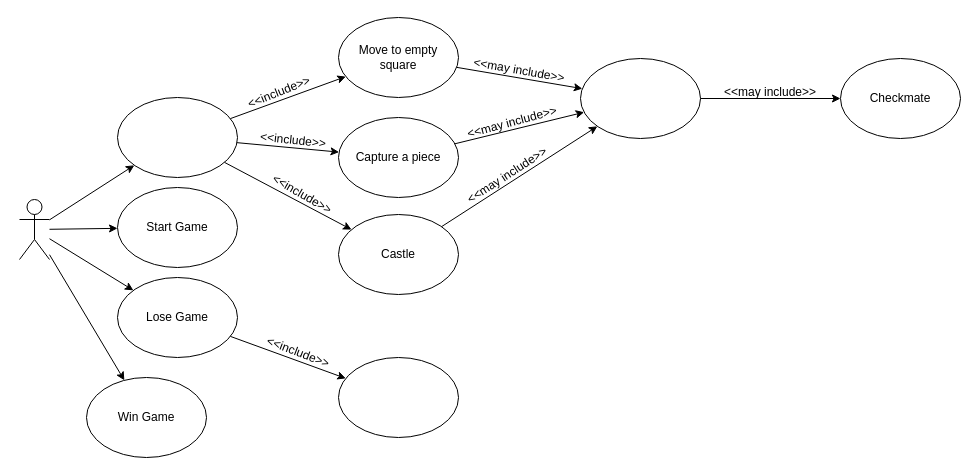
This 978x475 diagram has some shape labels left out. Here are the shapes that lost their labels. From the top down, the centre of each, then its label:
At pixel 640 98: "Check".
At pixel 177 137: "Move piece".
At pixel 34 229: "Player".
At pixel 398 397: "Resign".
